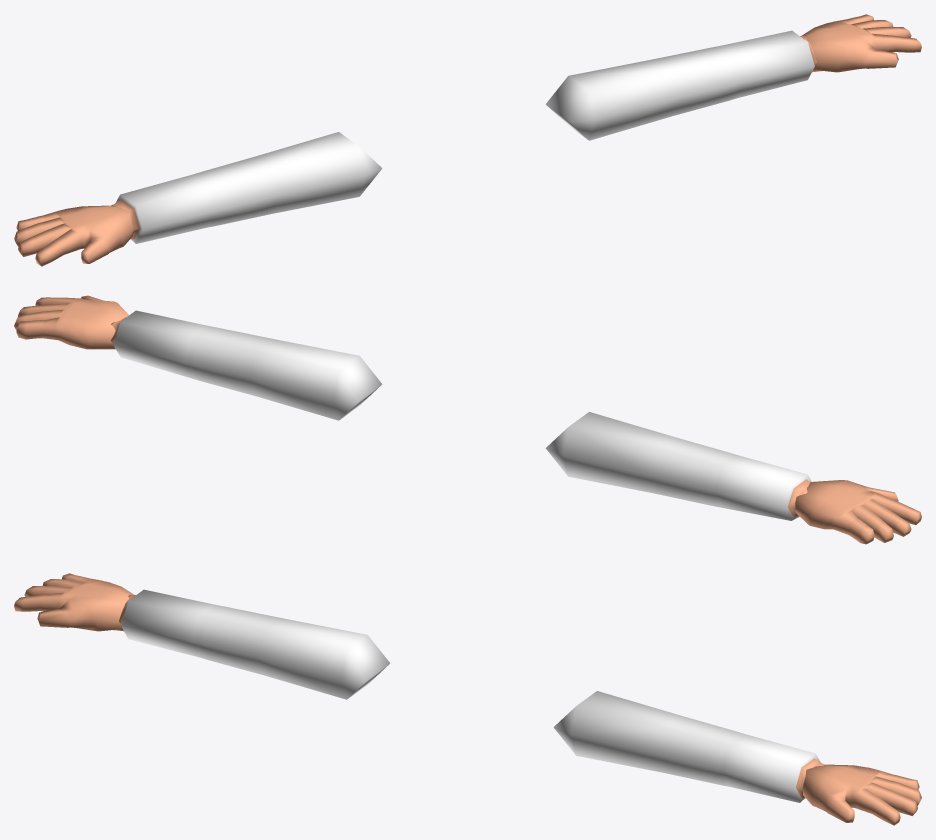
The model's file is NPC_White_Arm_01.gltf.
3 views of the same model, one above another, from view 1: azimuth 30°, elevation 25°; view 2: azimuth 150°, elevation 25°; view 3: azimuth 330°, elevation 25° (orthographic).
Parts seen in each view (by area): view 1: NPC_White_Arm_01; view 2: NPC_White_Arm_01; view 3: NPC_White_Arm_01.
Part boxes in pixels (x1,y1,x2,y2): NPC_White_Arm_01: (14, 14, 921, 266); NPC_White_Arm_01: (14, 295, 921, 544); NPC_White_Arm_01: (14, 573, 921, 825).
Bounding box in the file's own units: 2.31 × 0.1232 × 0.2269.
Materials: 1 (1 with a texture image).
